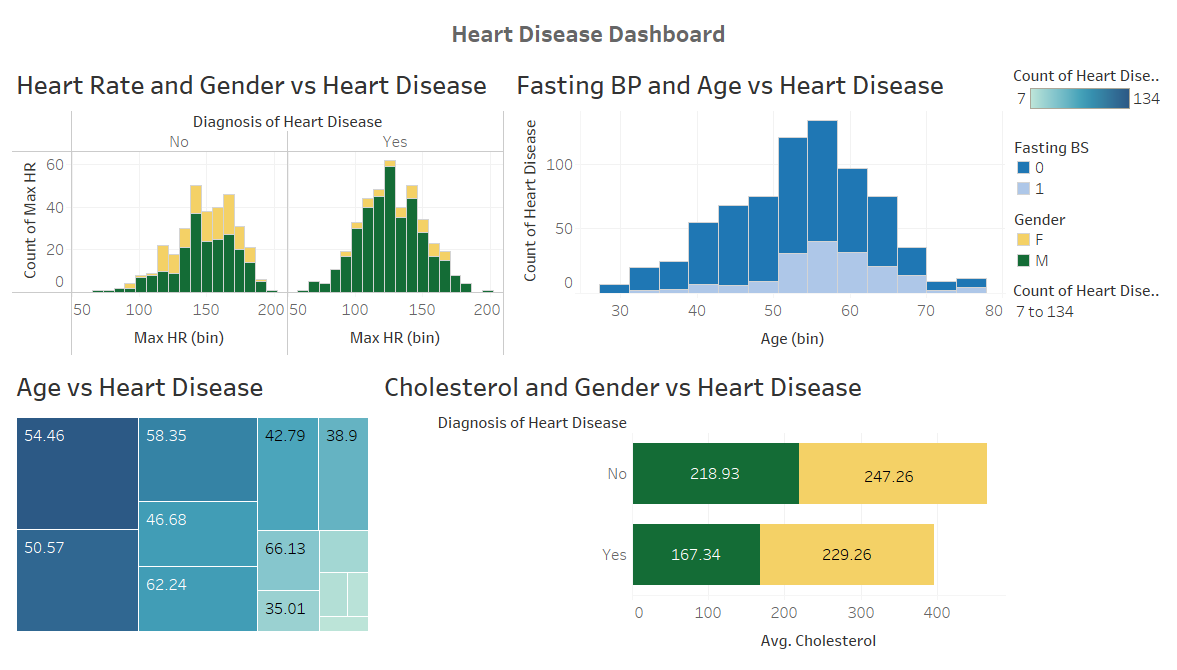

What the dashboard file says about the page in this screenshot:
{"tool":"tableau","page":{"name":"Dashboard 1","canvas":[1000,1000],"units":"permille","ordinal":0},"visuals":[{"type":"text","box":[6.8,11.9,986.4,72.5]},{"type":"worksheet","title":"MaxHR","mark":"Automatic","rows":["MaxHR"],"cols":["Calculation_526358230421000192","Max HR (bin)"],"box":[6.8,84.4,425.2,451.8]},{"type":"worksheet","title":"FastingvsAge","mark":"Automatic","rows":["HeartDisease"],"cols":["Age (bin)"],"box":[432,84.4,425.3,451.8]},{"type":"legend","title":"Age","param":"[federated.0qa9inb16k12xj0zx69wm1e3hbyz].[cnt:HeartDisease:qk]","box":[857.3,84.4,135.9,109]},{"type":"legend","title":"FastingvsAge","param":"[federated.0qa9inb16k12xj0zx69wm1e3hbyz].[none:FastingBS:nk]","box":[857.3,193.3,135.9,107.5]},{"type":"legend","title":"MaxHR","param":"[federated.0qa9inb16k12xj0zx69wm1e3hbyz].[none:Gender:nk]","box":[857.3,300.8,135.9,107.5]},{"type":"filter","title":"Age","param":"[federated.0qa9inb16k12xj0zx69wm1e3hbyz].[cnt:HeartDisease:qk]","box":[857.3,408.3,135.9,109]},{"type":"worksheet","title":"Age","mark":"Automatic","box":[6.8,536.2,312.4,451.8]},{"type":"worksheet","title":"CholesterolvsGender","mark":"Automatic","rows":["Calculation_526358230421000192"],"cols":["Cholesterol"],"box":[319.2,536.2,538.1,451.8]}]}

Visuals, with their boxes on the dashboard's canvas, which has no fixed pixel size, in thousandths of its width and height (x1, y1, x2, y2). These are canvas units, not pixel positions in the 1177x670 screenshot, which may show the page scaled, cropped or inside an application window:
text: (7, 12, 993, 84)
"MaxHR" worksheet: (7, 84, 432, 536)
"FastingvsAge" worksheet: (432, 84, 857, 536)
"Age" legend: (857, 84, 993, 193)
"FastingvsAge" legend: (857, 193, 993, 301)
"MaxHR" legend: (857, 301, 993, 408)
"Age" filter: (857, 408, 993, 517)
"Age" worksheet: (7, 536, 319, 988)
"CholesterolvsGender" worksheet: (319, 536, 857, 988)
